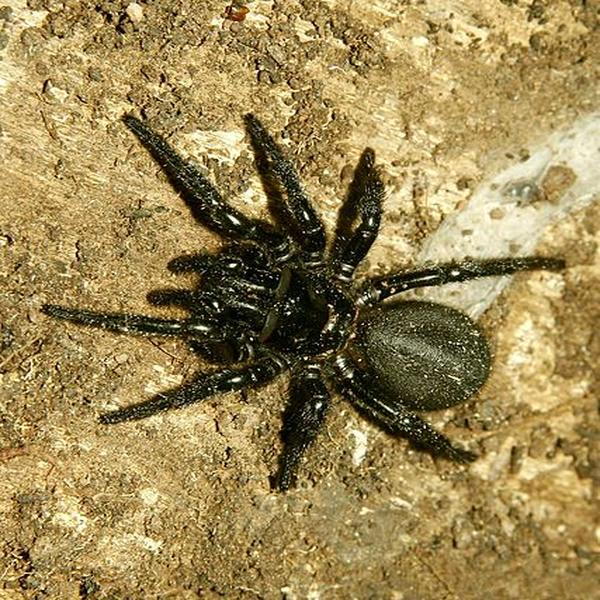Funnel Web Spider: (54, 117, 561, 478)
